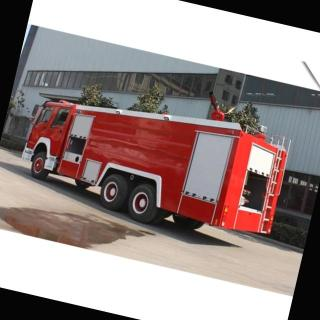Fire_truck: (11, 52, 299, 252)
